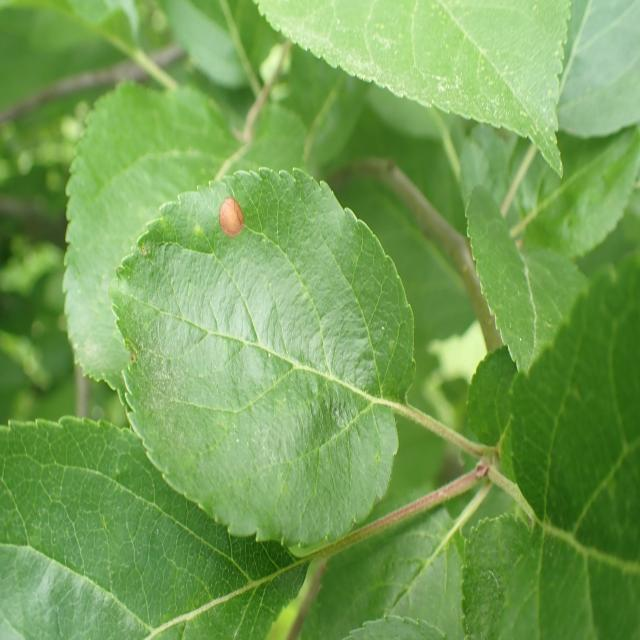frog-eye-leaf-spot: (108, 165, 417, 552)
